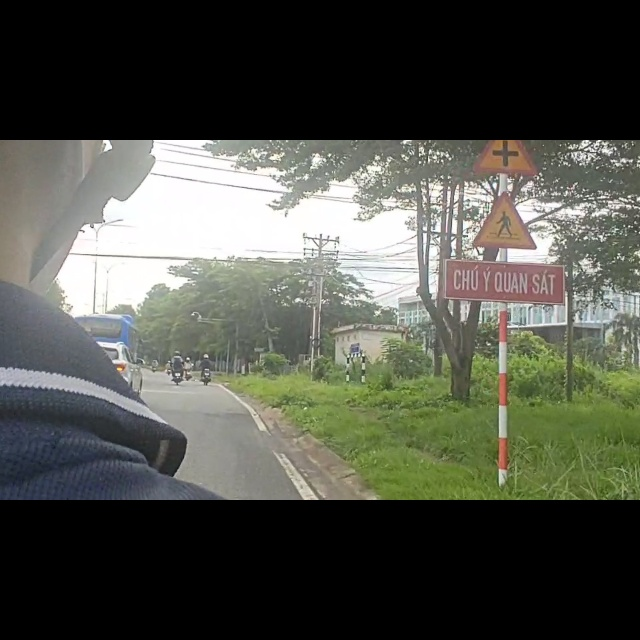bien_nguy_hiem: (474, 91, 541, 198), (471, 2, 542, 63)
